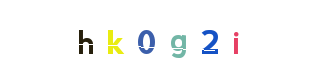0: (125, 0, 205, 80)
2: (138, 0, 218, 80)
G: (135, 0, 215, 80)
H: (44, 0, 124, 80)
I: (196, 0, 276, 80)
K: (73, 0, 153, 80)
